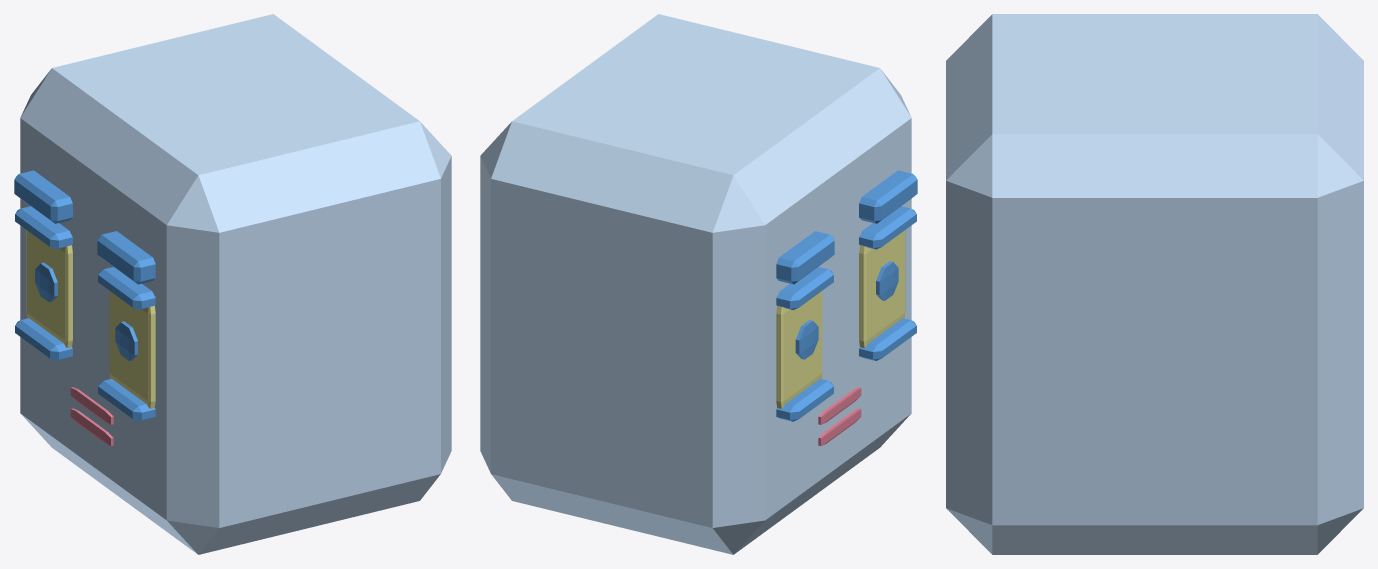
File: Fros.glb
3 views of the same model, side by side, from view 1: azimuth 30°, elevation 25°; view 2: azimuth 150°, elevation 25°; view 3: azimuth 270°, elevation 25° (orthographic). The views are drawn at different scales.
Parts seen in each view (by area): view 1: head, Cube.002, EyeBrown, lip_up, lip_down', eye, eyes, mouth, mouth'; view 2: head, Cube.002, EyeBrown, lip_up, lip_down', eyes, eye, mouth, mouth'; view 3: head.
Part boxes in pixels (<box>): head: <box>20,14,451,554</box>; Cube.002: <box>26,230,155,408</box>; EyeBrown: <box>14,170,155,284</box>; lip_up: <box>15,206,155,310</box>; lip_down': <box>15,318,155,421</box>; eye: <box>115,321,137,360</box>; eyes: <box>35,262,57,302</box>; mouth: <box>70,387,113,424</box>; mouth': <box>70,408,113,445</box>; head: <box>480,14,911,554</box>; Cube.002: <box>776,230,905,408</box>; EyeBrown: <box>776,170,917,284</box>; lip_up: <box>776,206,916,310</box>; lip_down': <box>776,318,916,421</box>; eyes: <box>795,320,818,359</box>; eye: <box>876,261,898,300</box>; mouth: <box>818,387,861,424</box>; mouth': <box>818,408,861,445</box>; head: <box>946,14,1363,554</box>.
Size of the model in its own units: 1.68 by 2 by 1.8.
